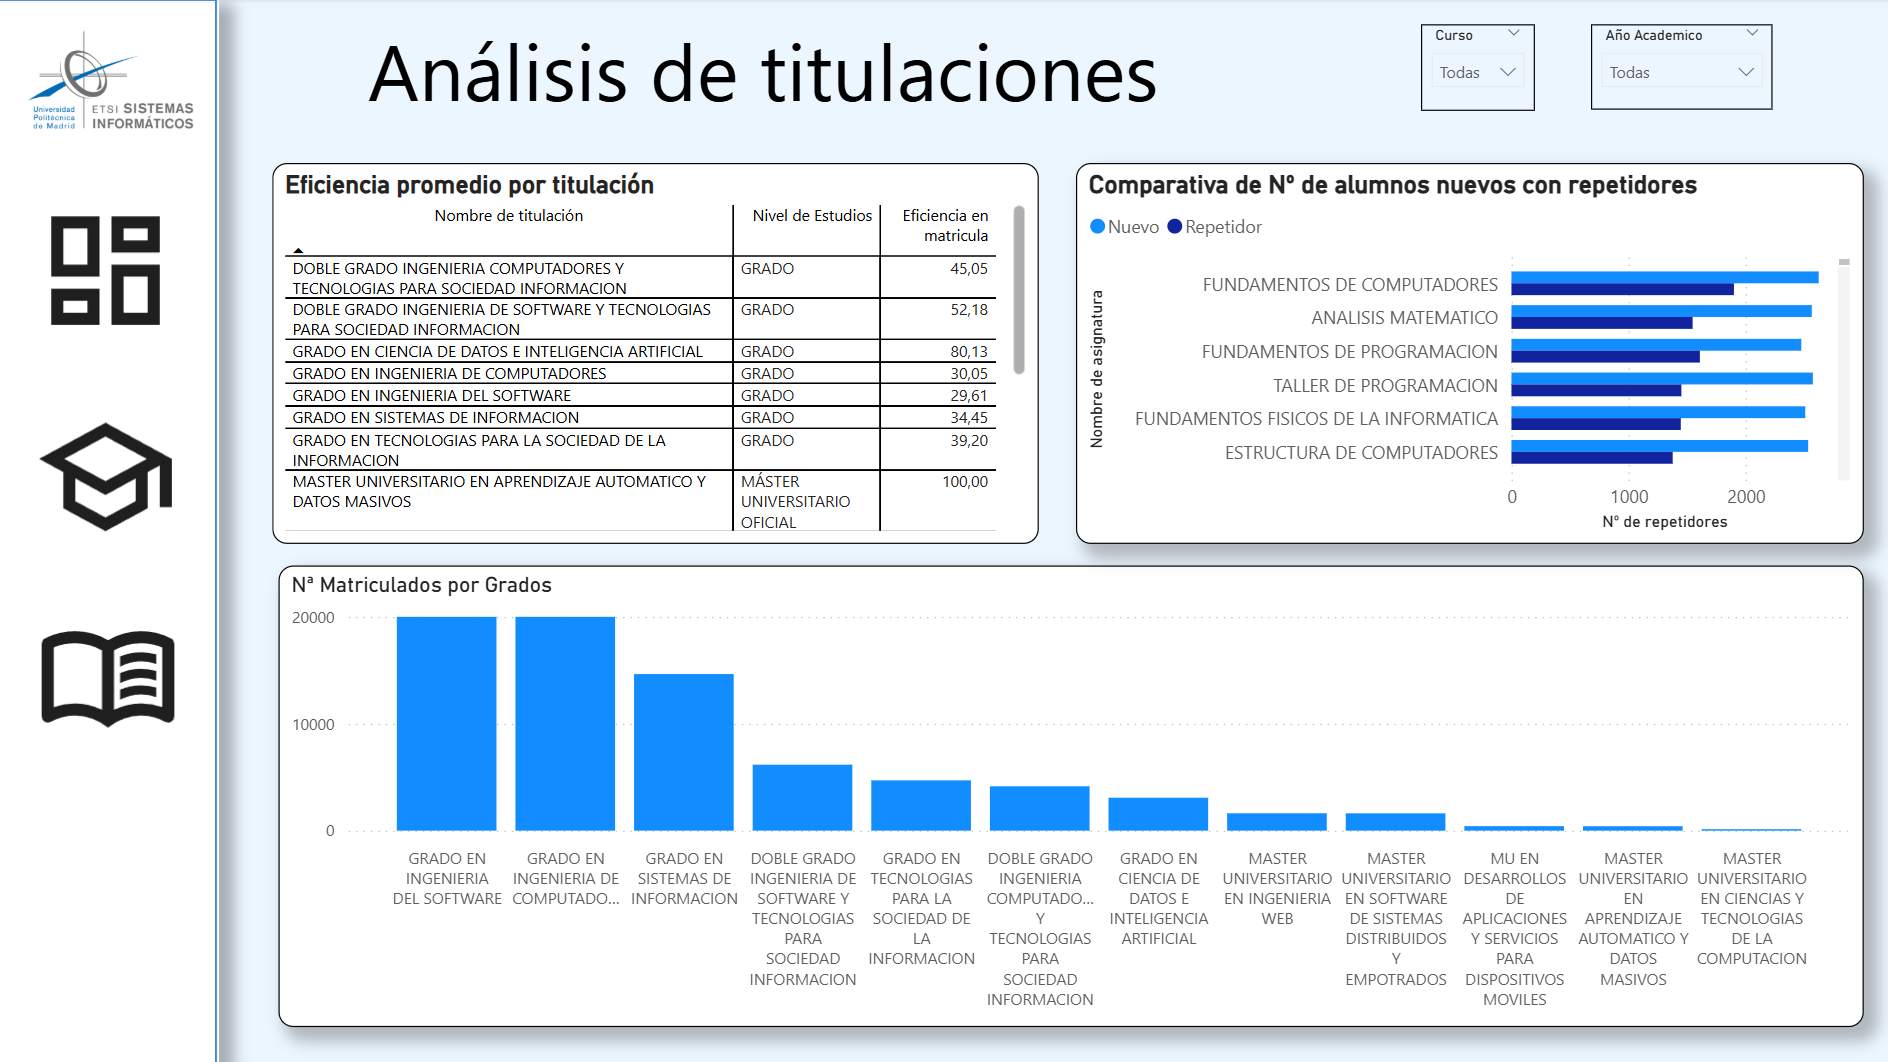

The dashboard page shown, as its layout file describes it:
{"tool":"powerbi","page":{"name":"Página 3","canvas":[1280,720],"ordinal":2},"visuals":[{"type":"shape","box":[0,0,150,720.3],"z":3000},{"type":"image","box":[0,0,156.4,111.6],"z":4000},{"type":"actionButton","box":[22.4,398.9,105.5,120.8],"z":5000},{"type":"actionButton","box":[21.5,263,105.5,119.9],"z":6000},{"type":"actionButton","box":[21.5,123.4,105.5,120.8],"z":7000},{"type":"columnChart","title":"Nª Matriculados por Grados","fields":{"Y":["Sum(Fact_rendimiento_transformado.N__Matriculados)"],"Category":["dim_plan_de_estudio.Nombre_Plan_de_Estudios"]},"box":[190.5,382.6,1068.6,311],"z":8001},{"type":"slicer","title":"Filtro","fields":{"Values":["dim_asignatura.Curso"]},"box":[960.4,18.1,76.5,58.4],"z":8002},{"type":"slicer","title":"Filtro","fields":{"Values":["dim_tiempo.Anio_Academico"]},"box":[1075.1,17.7,122.6,57.8],"z":8003},{"type":"pivotTable","title":"Eficiencia promedio por titulación","fields":{"Values":["Min(dim_plan_de_estudio.Nivel_de_Estudios)","Avg(Fact_rendimiento_transformado.Eficiencia_en_matricula)"],"Rows":["dim_plan_de_estudio.Nombre_Plan_de_Estudios"]},"box":[186.3,111.2,517.1,257.2],"z":8004},{"type":"clusteredBarChart","title":"Comparativa de Nº de alumnos nuevos con repetidores","fields":{"Series":["Fact_rendimiento_transformado.Repetidor_Nuevo"],"Y":["Sum(Fact_rendimiento_transformado.N__Matriculados)"],"Category":["dim_asignatura.Nombre_Asignatura"]},"box":[728.2,111.2,530.9,257],"z":8005},{"type":"textbox","box":[213.4,7.1,608.3,96.7],"z":8006}]}

Visuals, with their boxes in screenshot pixels (x1, y1, x2, y2), scaled from the page's 1280x720 canvas onto the 1888x1062 screenshot:
shape: {"left": 0, "top": 0, "right": 221, "bottom": 1061}
image: {"left": 0, "top": 0, "right": 231, "bottom": 165}
actionButton: {"left": 33, "top": 588, "right": 189, "bottom": 767}
actionButton: {"left": 32, "top": 388, "right": 187, "bottom": 565}
actionButton: {"left": 32, "top": 182, "right": 187, "bottom": 360}
"Nª Matriculados por Grados" columnChart: {"left": 281, "top": 564, "right": 1857, "bottom": 1023}
"Filtro" slicer: {"left": 1417, "top": 27, "right": 1529, "bottom": 113}
"Filtro" slicer: {"left": 1586, "top": 26, "right": 1767, "bottom": 111}
"Eficiencia promedio por titulación" pivotTable: {"left": 275, "top": 164, "right": 1038, "bottom": 543}
"Comparativa de Nº de alumnos nuevos con repetidores" clusteredBarChart: {"left": 1074, "top": 164, "right": 1857, "bottom": 543}
textbox: {"left": 315, "top": 10, "right": 1212, "bottom": 153}
